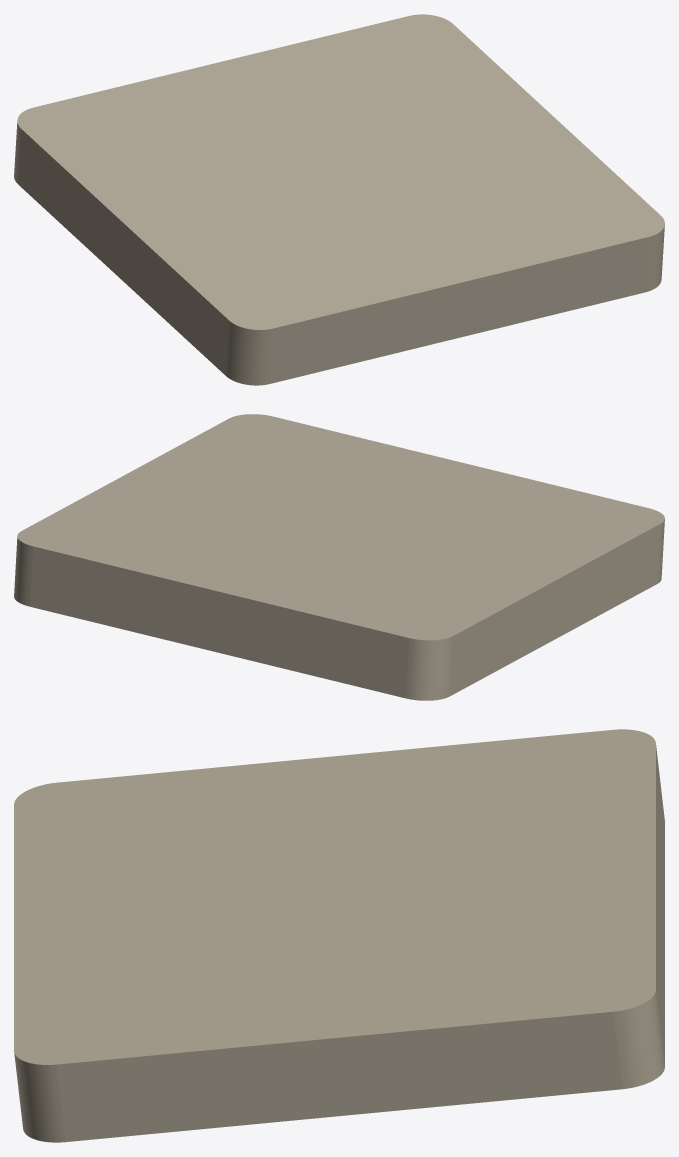
The model's file is original-33.obj.
The picture shows the model from 3 angles, top to bottom: view 1: azimuth 30°, elevation 25°; view 2: azimuth 150°, elevation 25°; view 3: azimuth 270°, elevation 25°; orthographic projection. The views are drawn at different scales.
Parts seen in each view (by area): view 1: Group34/mesh94/mesh94-geometry#mesh94-geometry; view 2: Group34/mesh94/mesh94-geometry#mesh94-geometry; view 3: Group34/mesh94/mesh94-geometry#mesh94-geometry.
Boxes of the visible parts, <box> form: Group34/mesh94/mesh94-geometry#mesh94-geometry: <box>14,14,664,385</box>; Group34/mesh94/mesh94-geometry#mesh94-geometry: <box>14,414,664,700</box>; Group34/mesh94/mesh94-geometry#mesh94-geometry: <box>14,729,664,1142</box>.
Bounding box in the file's own units: 0.0689 × 0.0158 × 0.0673.
